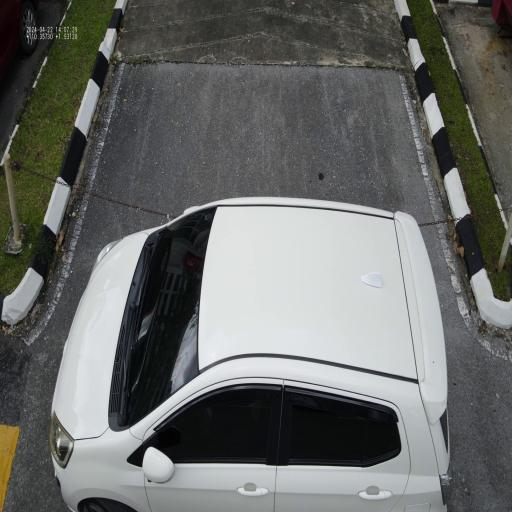Illegal: (48, 193, 454, 512)
